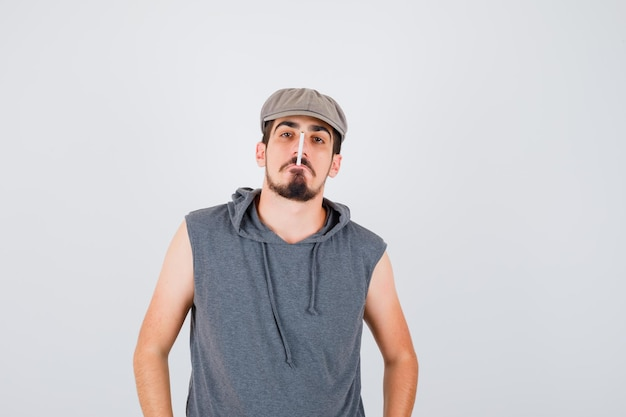cigarette: (295, 132, 304, 166)
